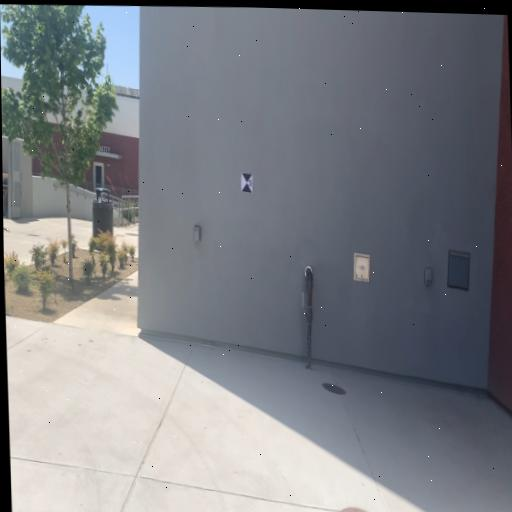target5: (241, 173, 253, 194)
